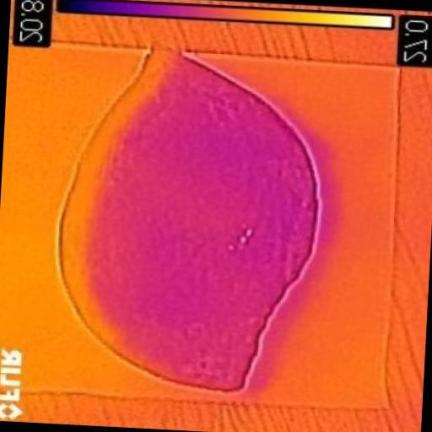mango: (64, 44, 319, 390)
